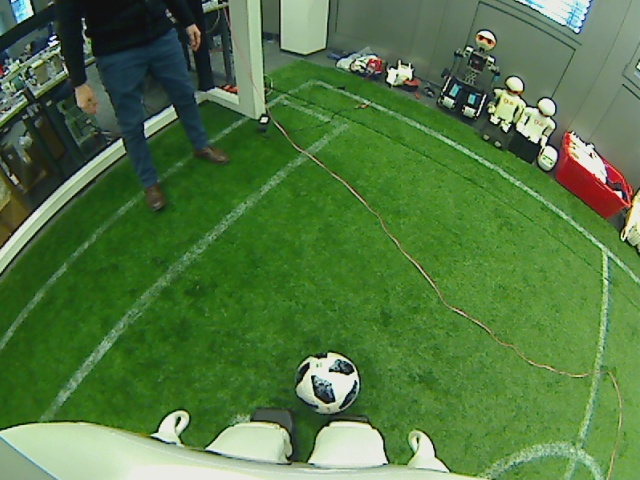ball: (292, 349, 360, 415)
